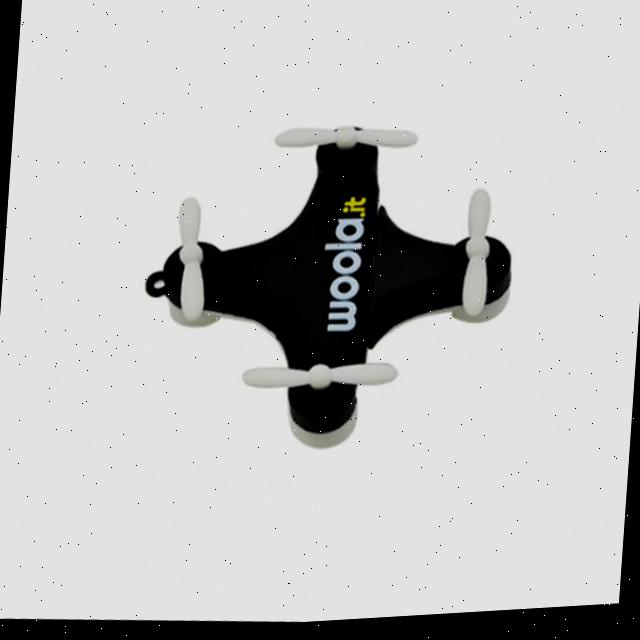drone: (98, 63, 534, 471)
